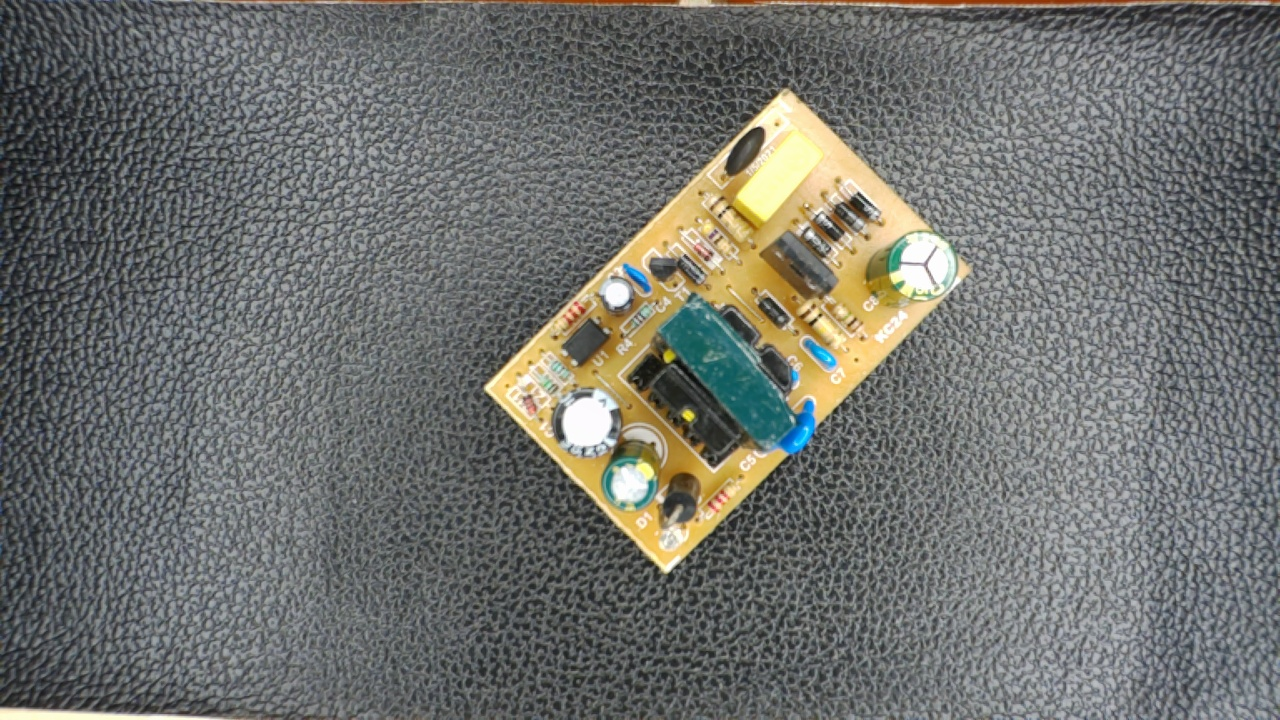fuse: (720, 123, 770, 179)
hv_capacitor: (860, 231, 956, 302)
mov: (783, 395, 816, 461)
optocoupler: (560, 318, 618, 365)
